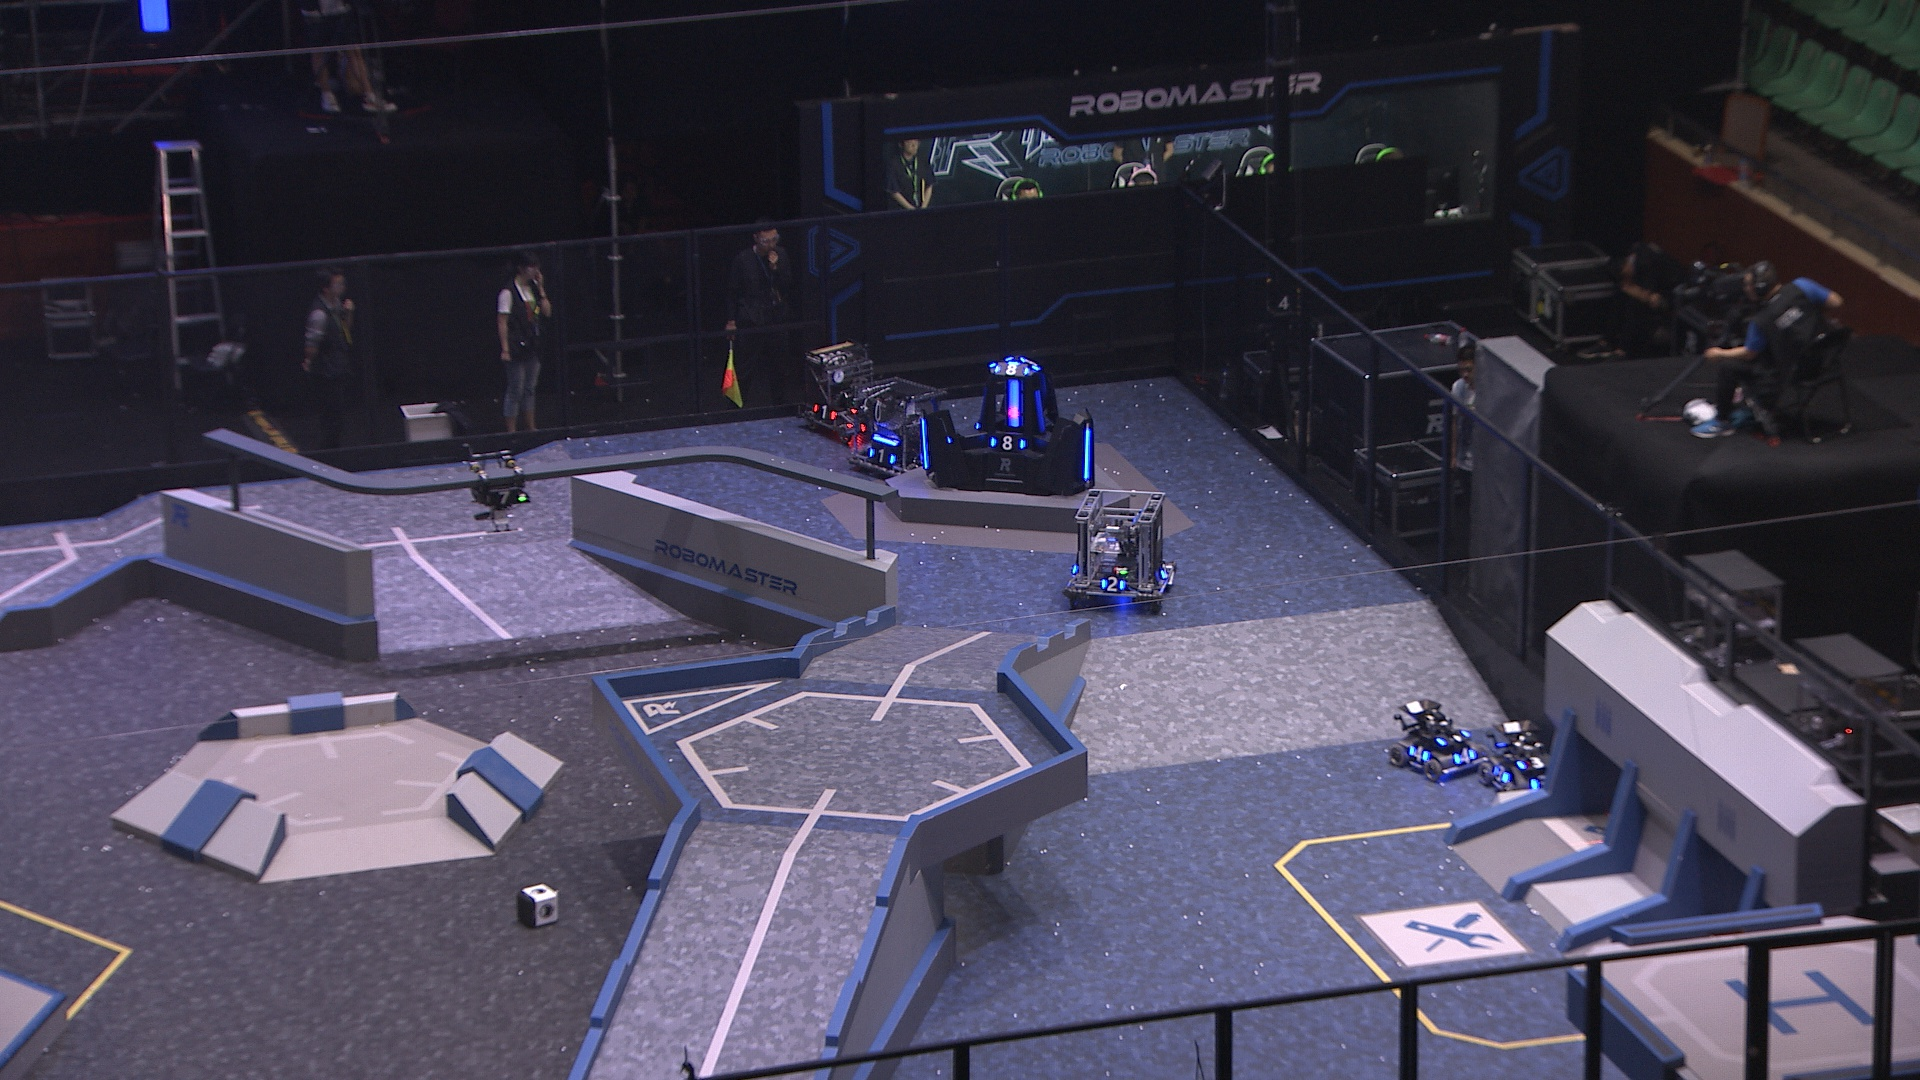armor: (1002, 376, 1026, 434), (913, 414, 931, 472), (1079, 419, 1095, 483), (1031, 385, 1048, 436), (1433, 727, 1470, 749), (1515, 752, 1551, 773), (483, 491, 524, 508), (812, 400, 841, 423), (988, 436, 1030, 452), (865, 444, 897, 465), (1406, 740, 1429, 765), (1448, 745, 1476, 766), (994, 360, 1030, 376), (1100, 575, 1126, 593), (1528, 771, 1549, 793), (1021, 353, 1043, 373), (1489, 764, 1509, 785), (1156, 560, 1171, 583)
base: (909, 351, 1100, 498)
car: (1063, 484, 1182, 615), (847, 377, 953, 476), (796, 342, 891, 436), (1386, 694, 1486, 781), (1472, 713, 1565, 798)
watcher: (460, 440, 533, 531)
